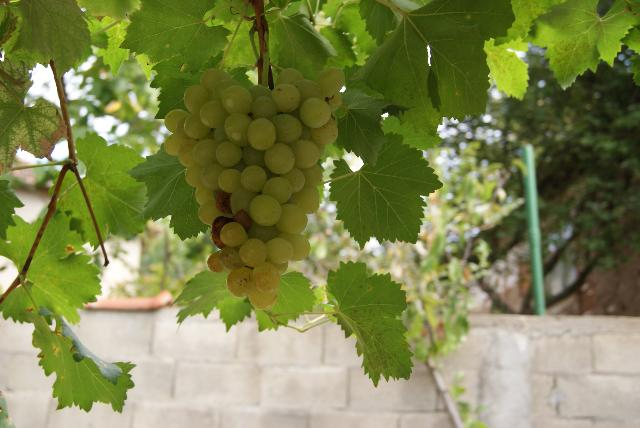grapes: (165, 68, 345, 310)
